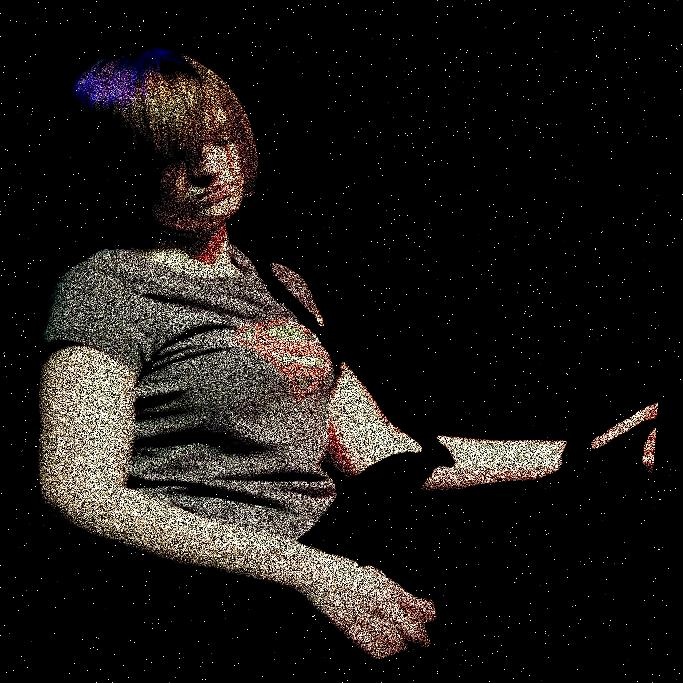Pessoa: (110, 0, 295, 682)
